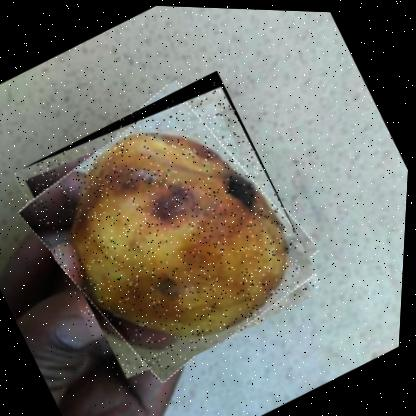guava_rotten: (5, 61, 338, 397)
